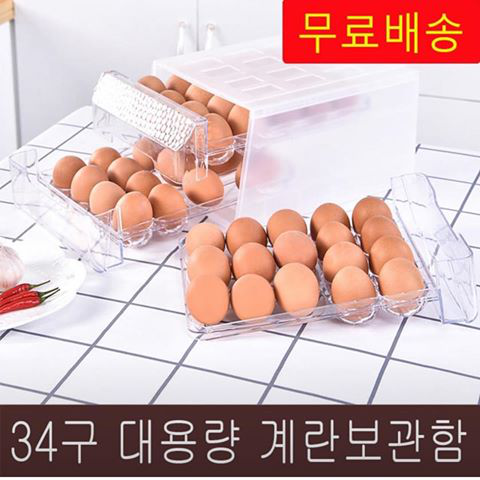egg: (183, 196, 427, 327), (52, 146, 185, 232), (135, 69, 255, 152)
